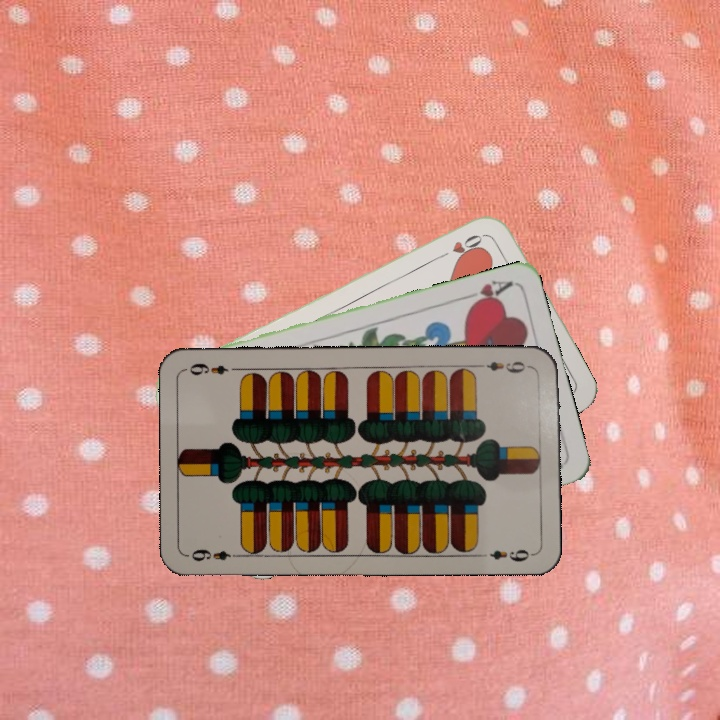E9: (474, 357, 533, 376), (187, 545, 244, 564)
HA: (457, 276, 515, 310)
HO: (432, 229, 488, 262)
